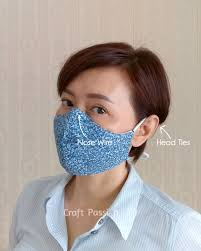masked: (47, 43, 171, 177)
